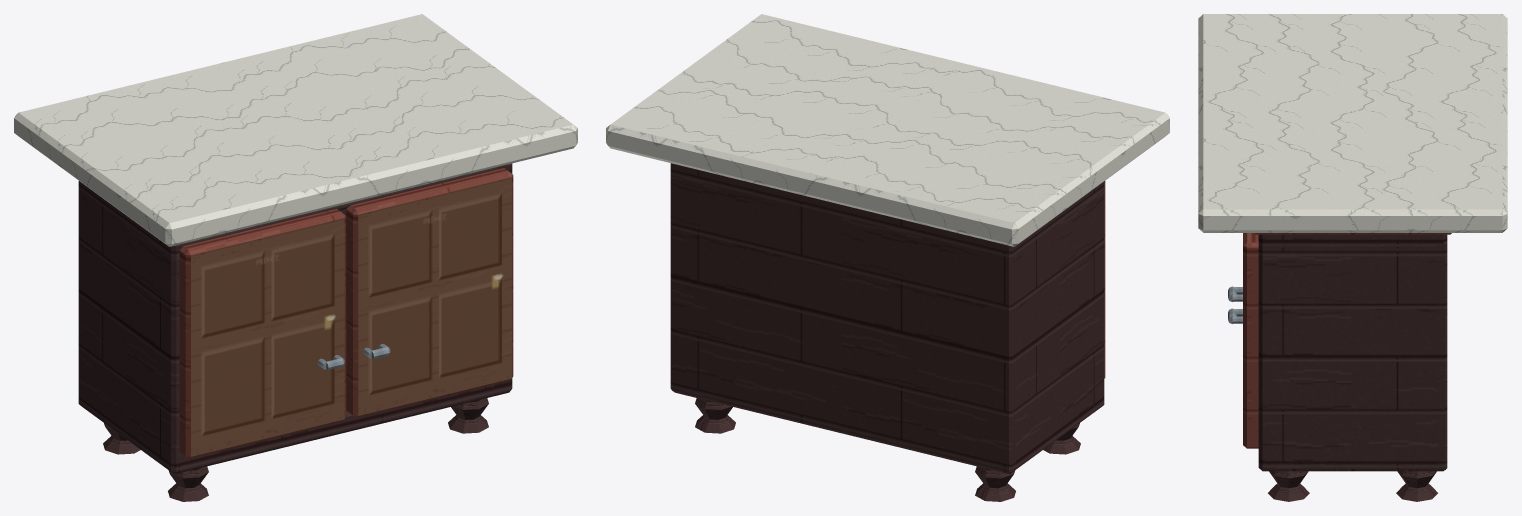
Rendered from MD_47_KitchenIsland.fbx.
3 renders of one model, left to right at view 1: azimuth 30°, elevation 25°; view 2: azimuth 150°, elevation 25°; view 3: azimuth 270°, elevation 25°, orthographic.
Visible parts, largest first — view 1: MD_47_KitchenIsland_marble_worktop, MD_47_KitchenIsland_hinged_door.001, MD_47_KitchenIsland_hinged_door, MD_47_KitchenIsland_cabinet_side, MD_47_KitchenIsland_cabinet_shelf, MD_47_KitchenIsland_cabinet_shelf.001, MD_47_KitchenIsland_turned_leg, MD_47_KitchenIsland_turned_leg.002, MD_47_KitchenIsland_cabinet_back; view 2: MD_47_KitchenIsland_cabinet_back, MD_47_KitchenIsland_marble_worktop, MD_47_KitchenIsland_cabinet_side, MD_47_KitchenIsland_cabinet_shelf, MD_47_KitchenIsland_turned_leg.001, MD_47_KitchenIsland_turned_leg.003; view 3: MD_47_KitchenIsland_marble_worktop, MD_47_KitchenIsland_cabinet_side.001, MD_47_KitchenIsland_hinged_door.001, MD_47_KitchenIsland_cabinet_shelf, MD_47_KitchenIsland_cabinet_shelf.001, MD_47_KitchenIsland_cabinet_back, MD_47_KitchenIsland_turned_leg.002, MD_47_KitchenIsland_turned_leg.003, MD_47_KitchenIsland_cabinet_crown.
Part boxes in pixels (x1,y1,x2,y2): MD_47_KitchenIsland_marble_worktop: [14, 14, 577, 246]; MD_47_KitchenIsland_hinged_door.001: [346, 168, 513, 417]; MD_47_KitchenIsland_hinged_door: [179, 209, 345, 458]; MD_47_KitchenIsland_cabinet_side: [79, 183, 189, 470]; MD_47_KitchenIsland_cabinet_shelf: [80, 327, 512, 474]; MD_47_KitchenIsland_cabinet_shelf.001: [82, 163, 512, 248]; MD_47_KitchenIsland_turned_leg: [168, 466, 208, 501]; MD_47_KitchenIsland_turned_leg.002: [448, 398, 488, 433]; MD_47_KitchenIsland_cabinet_back: [78, 181, 346, 406]; MD_47_KitchenIsland_cabinet_back: [670, 163, 1016, 473]; MD_47_KitchenIsland_marble_worktop: [606, 14, 1169, 246]; MD_47_KitchenIsland_cabinet_side: [1004, 182, 1104, 461]; MD_47_KitchenIsland_cabinet_shelf: [673, 390, 1104, 474]; MD_47_KitchenIsland_turned_leg.001: [975, 466, 1015, 501]; MD_47_KitchenIsland_turned_leg.003: [695, 398, 735, 433]; MD_47_KitchenIsland_marble_worktop: [1198, 14, 1507, 232]; MD_47_KitchenIsland_cabinet_side.001: [1258, 243, 1443, 467]; MD_47_KitchenIsland_hinged_door.001: [1243, 233, 1258, 448]; MD_47_KitchenIsland_cabinet_shelf: [1258, 454, 1443, 471]; MD_47_KitchenIsland_cabinet_shelf.001: [1258, 234, 1447, 247]; MD_47_KitchenIsland_cabinet_back: [1437, 241, 1447, 470]; MD_47_KitchenIsland_turned_leg.002: [1268, 471, 1309, 501]; MD_47_KitchenIsland_turned_leg.003: [1396, 471, 1437, 501]; MD_47_KitchenIsland_cabinet_crown: [1254, 233, 1451, 234].
Size of the model in its own units: 1.45 by 1.07 by 0.95.
Materials: 5 (5 with a texture image).
